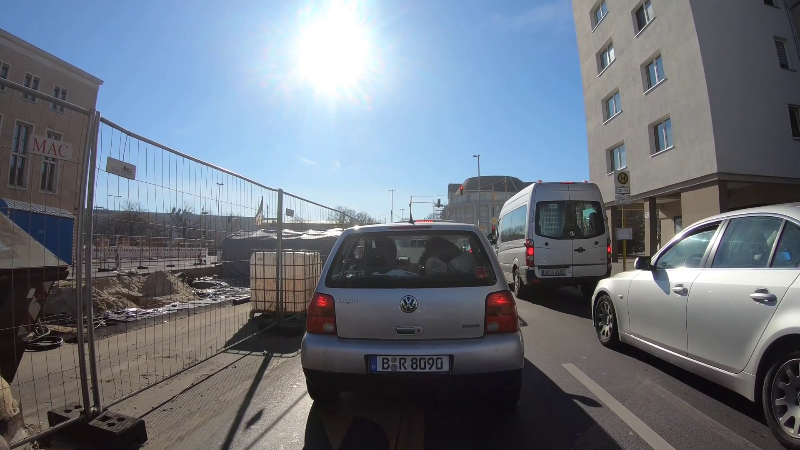Plate: (361, 349, 461, 376), (539, 266, 568, 276)
